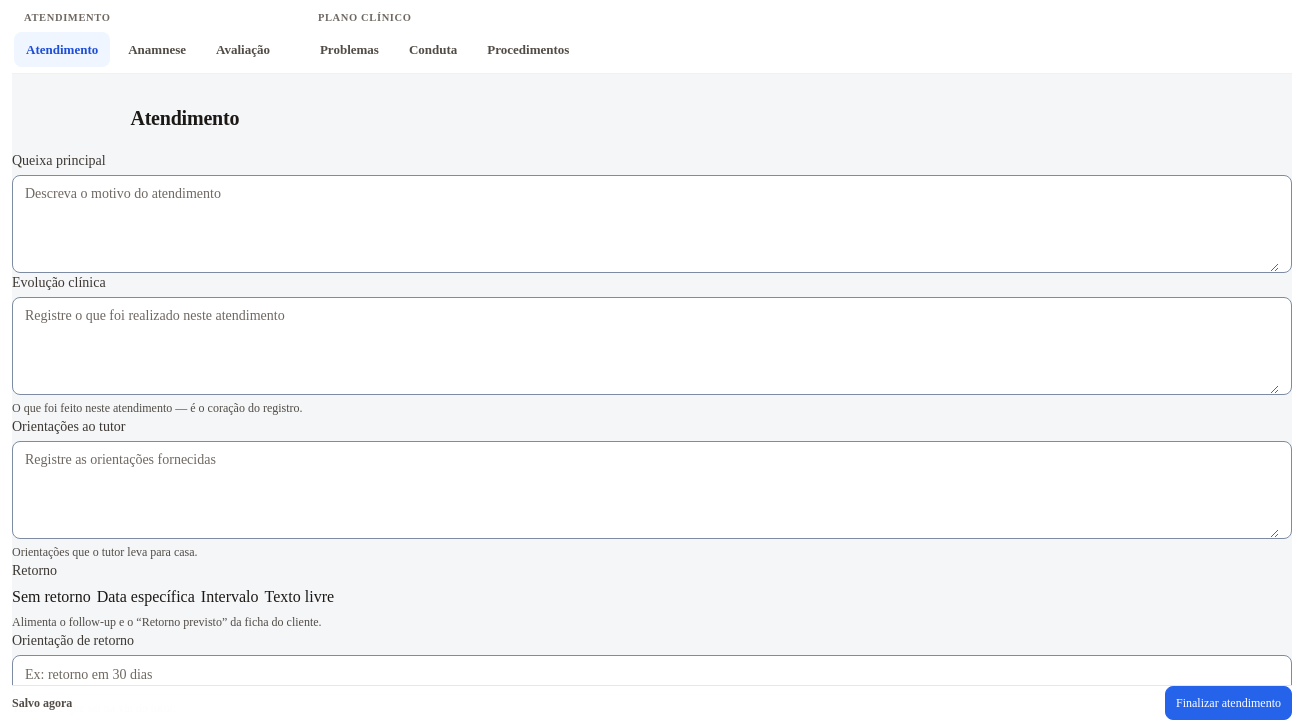
Test: F1B1 · troca de seção grava antes (mesma regra de saída do F1A) › valor que o servidor recusaria (não numérico) NÃO é anunciado como "Salvo agora"
Click the button "Avaliação" at (243, 50), box [204,32,282,67]
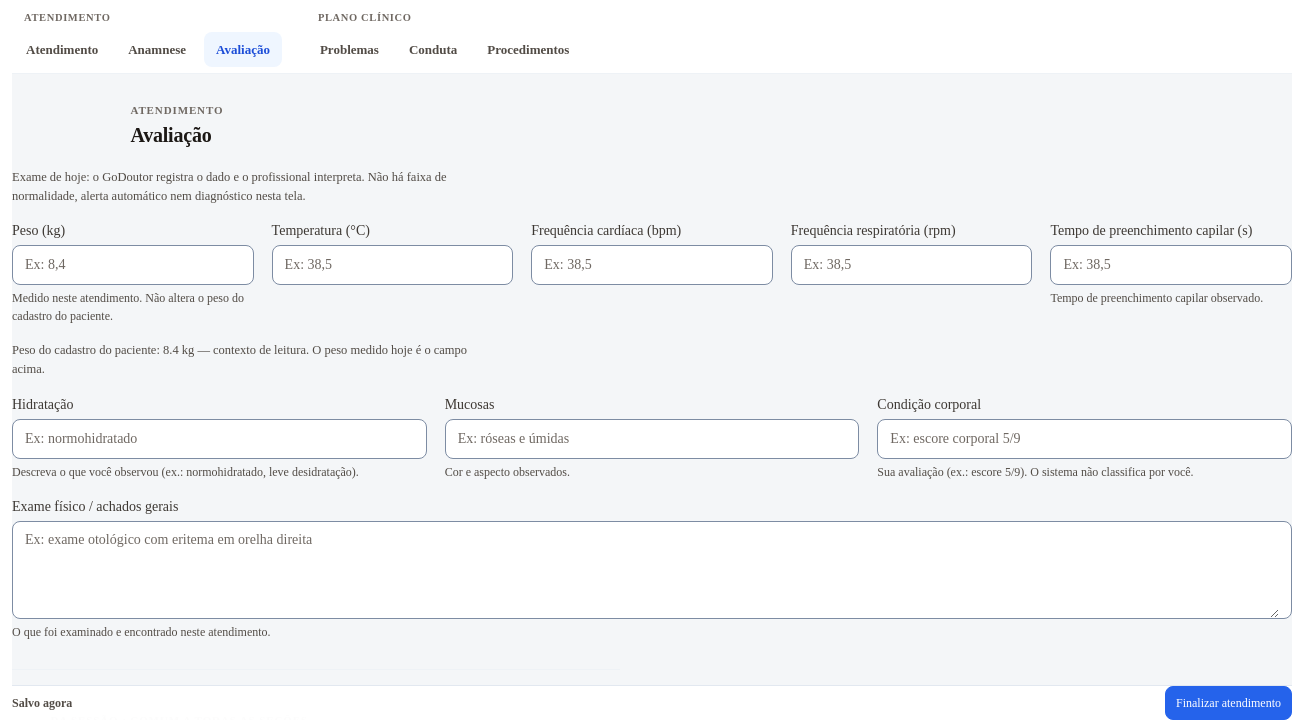
Type "abc" into the field labelled "Peso (kg)" at (133, 265), box [25,246,241,284]
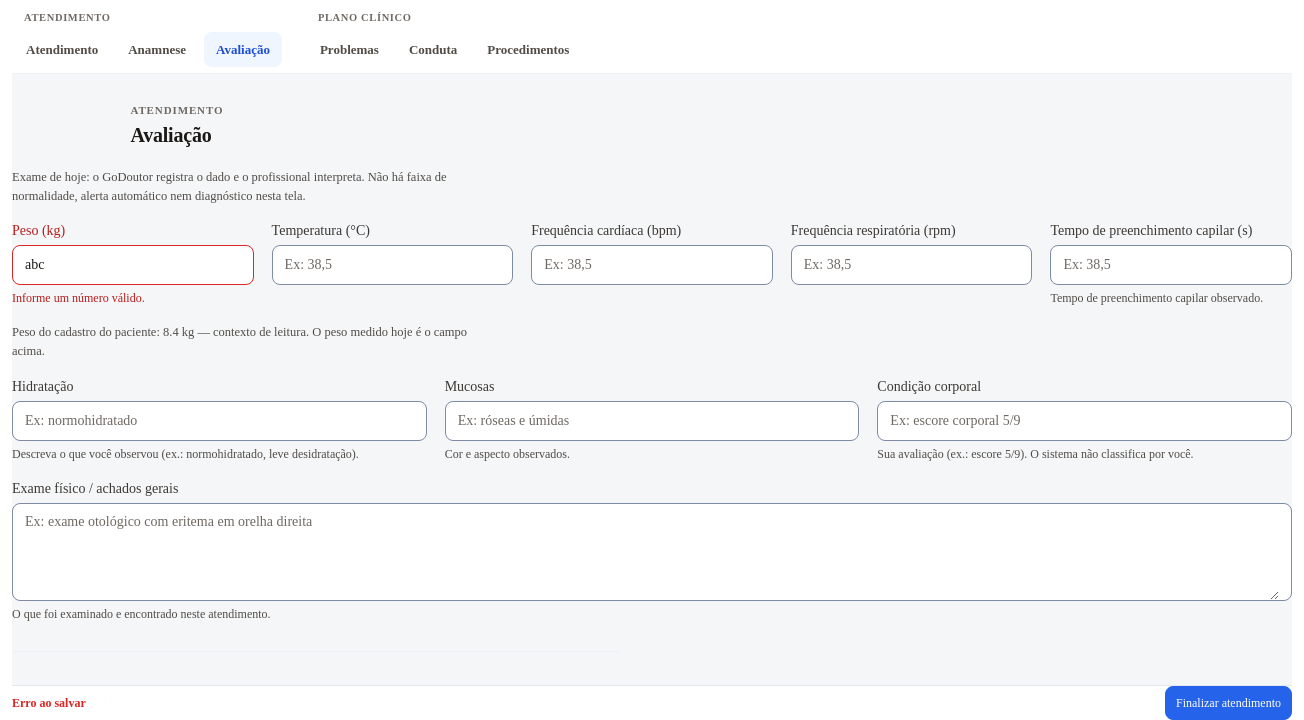
Expected: the message with test id "encounter-workspace-save-state" reads "Erro ao salvar", [12,696,86,710]
Replace the text in the field labelled "Peso (kg)" with "9,1" at (133, 265), box [25,246,241,284]
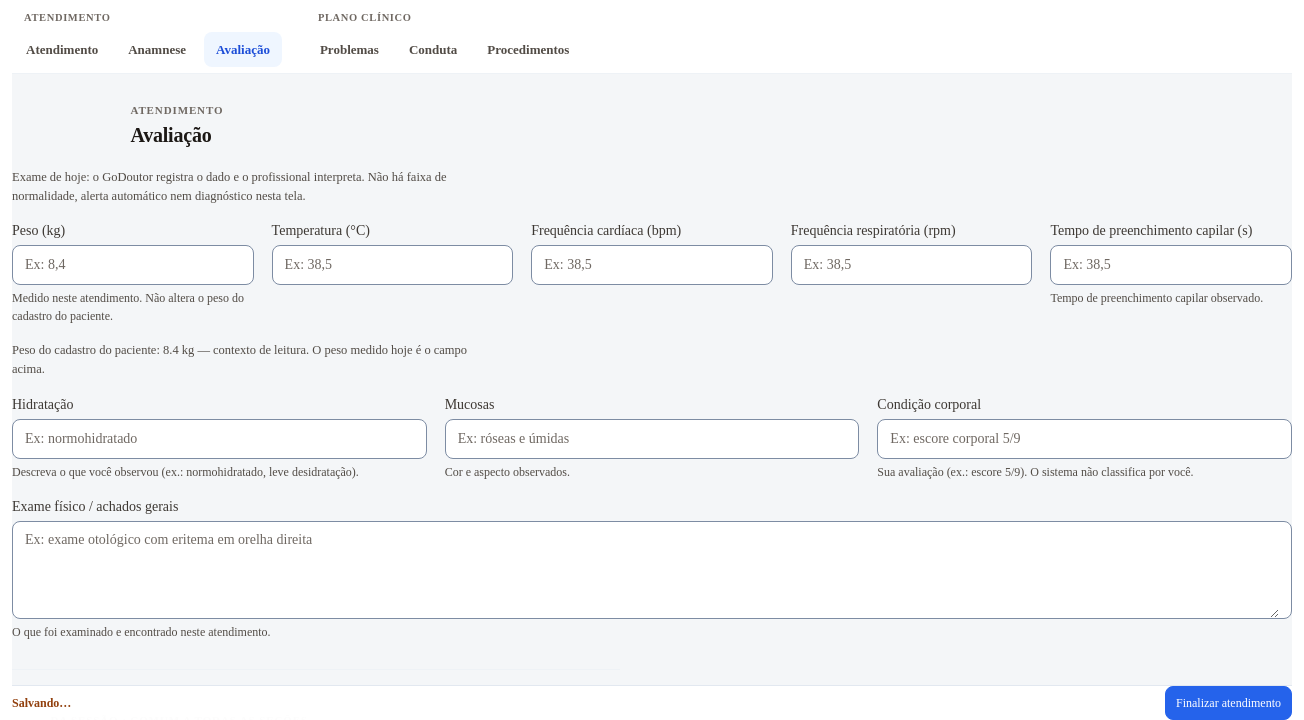
Expected: the message with test id "encounter-workspace-save-state" no longer shows "Erro ao salvar"
